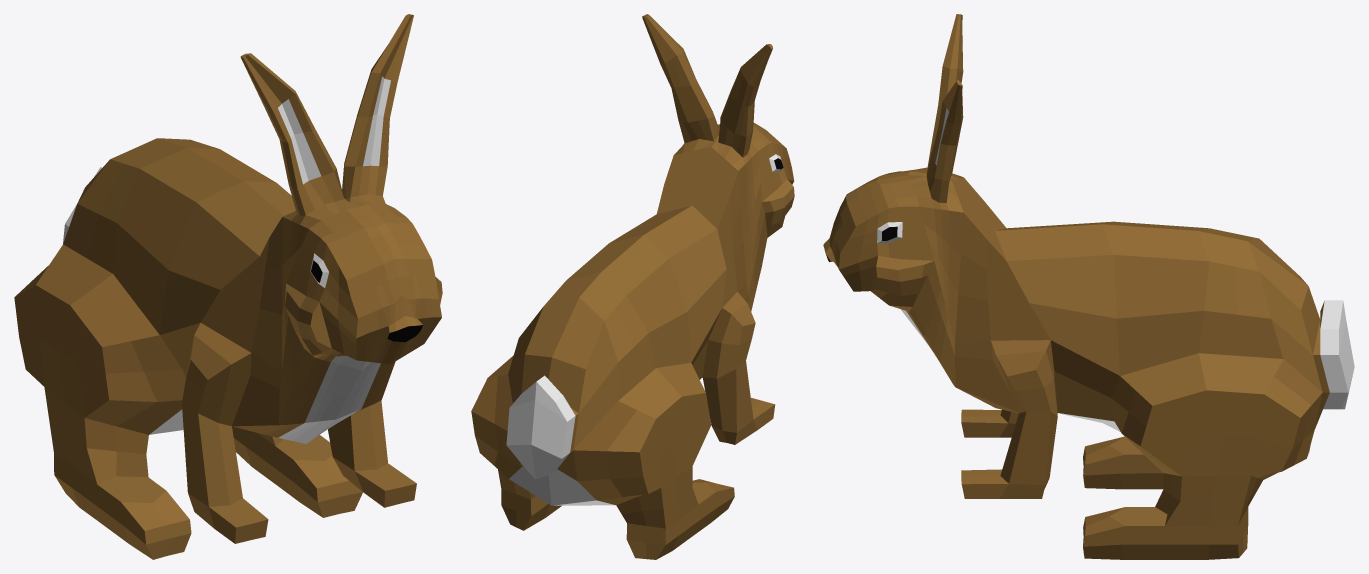
Rendered from rabbit.fbx.
3 renders of one model, left to right at view 1: azimuth 30°, elevation 25°; view 2: azimuth 150°, elevation 25°; view 3: azimuth 270°, elevation 25°, orthographic. The views are drawn at different scales.
Parts seen in each view (by area): view 1: Rabbit; view 2: Rabbit; view 3: Rabbit.
Boxes of the visible parts, x1,y1,x2,y2 form: Rabbit: (14, 14, 442, 559); Rabbit: (471, 14, 794, 559); Rabbit: (823, 14, 1354, 559).
Size of the model in its own units: 113 by 269 by 276.
